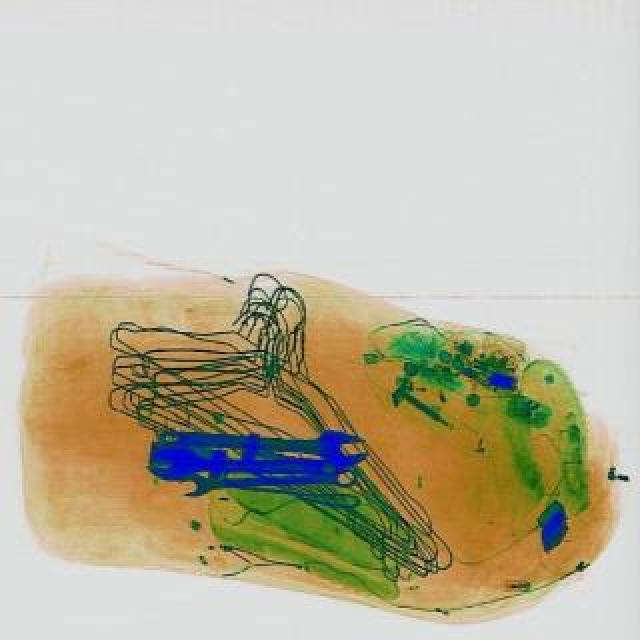scissors: (162, 418, 372, 470), (148, 442, 338, 486), (180, 462, 360, 496)
